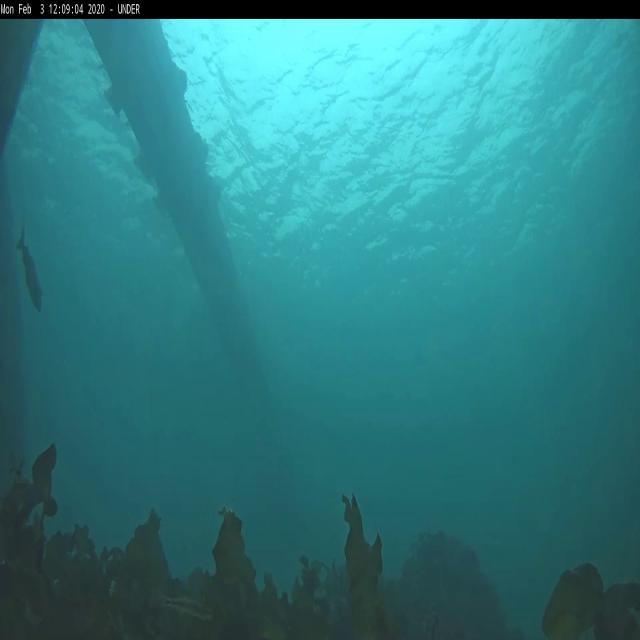fish: (18, 230, 44, 314), (158, 590, 214, 622)
